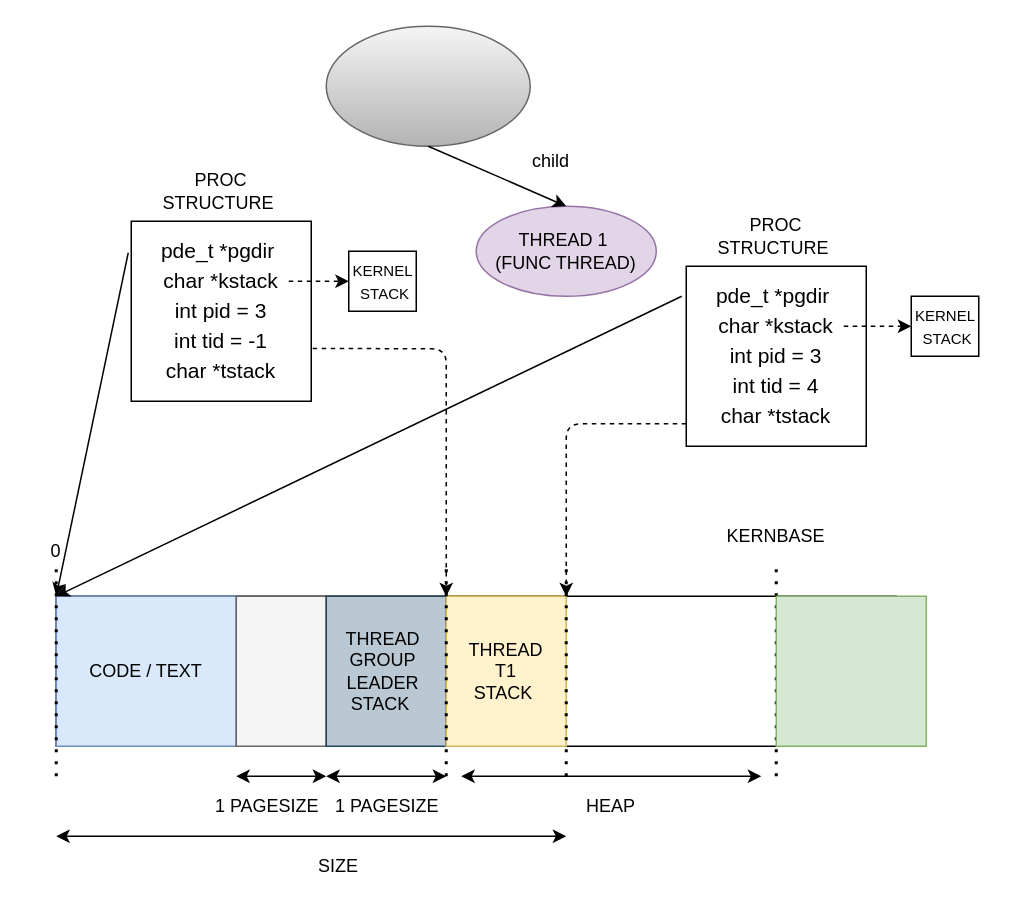
Image size: 1031x908. Some labels were removed from this diagram. Each missing label, with the centre of its shape:
"GROUP LEADER THREAD (MAIN THREAD)" goes at (427,85).
"GUARD PAGE" goes at (280,670).
"XV6 KERNEL CODE / DATA" goes at (850,670).
